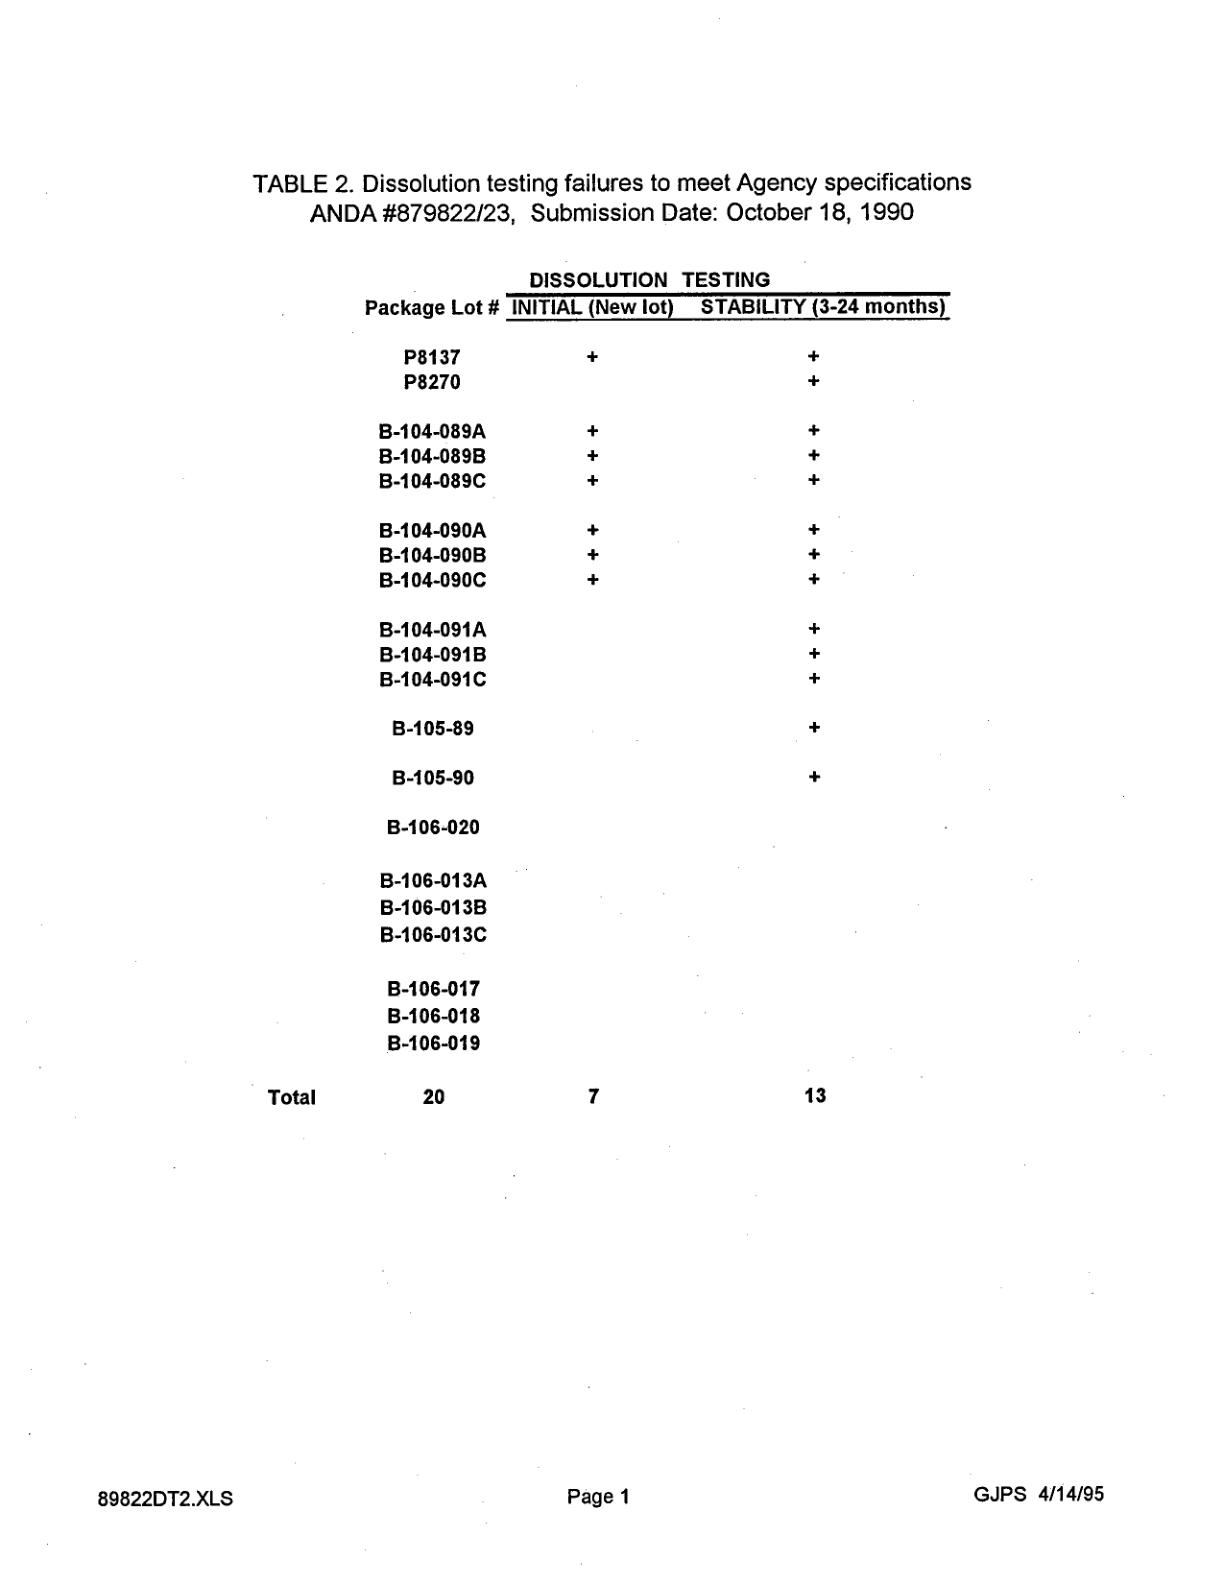nolines: (267, 291, 953, 1108)
